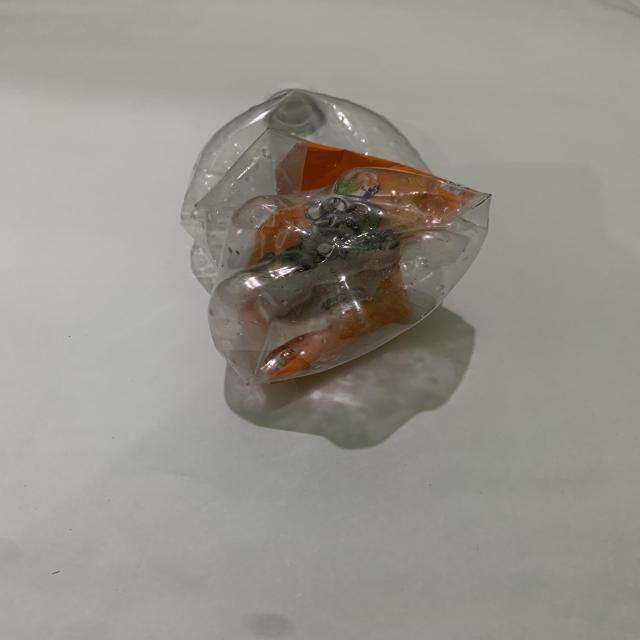bottle: (181, 87, 512, 415)
